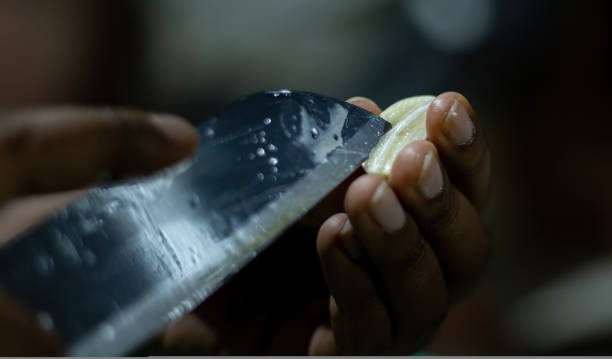knife: (0, 89, 397, 359)
